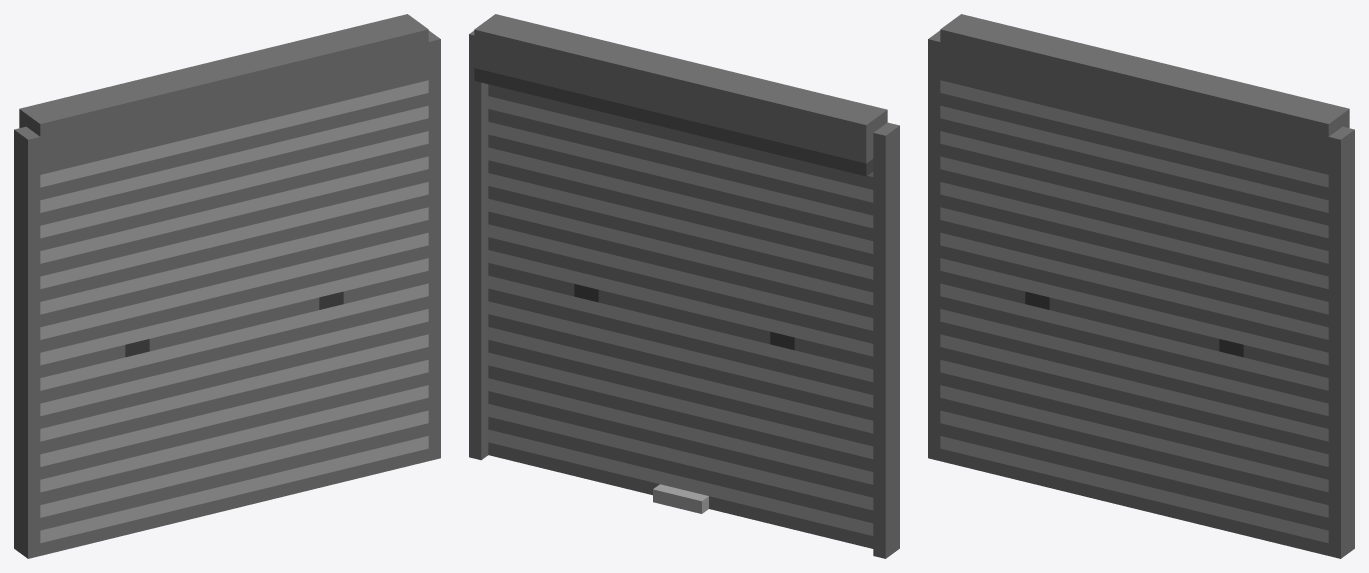
File: backdoorThree.glb
The picture shows the model from 3 angles, left to right: view 1: azimuth 30°, elevation 25°; view 2: azimuth 150°, elevation 25°; view 3: azimuth 330°, elevation 25°; orthographic projection.
Parts seen in each view (by area): view 1: ObjObject; view 2: ObjObject; view 3: ObjObject.
Part boxes in pixels (left/top/right/bottom): ObjObject: left=14, top=14, right=440, bottom=558; ObjObject: left=469, top=14, right=899, bottom=558; ObjObject: left=928, top=14, right=1354, bottom=558.
Size of the model in its own units: 3.4 by 3.4 by 0.3.
1 material, 1 textured.
